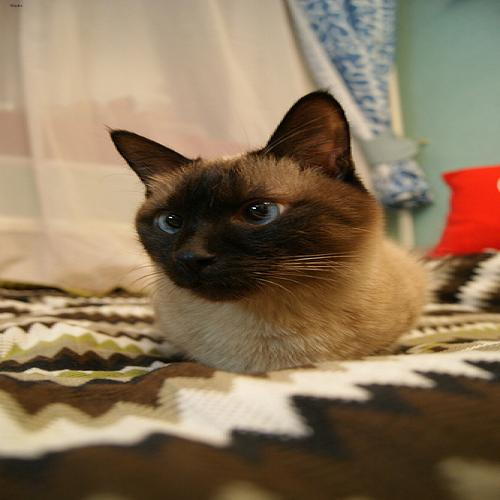siamese: (84, 84, 423, 314)
